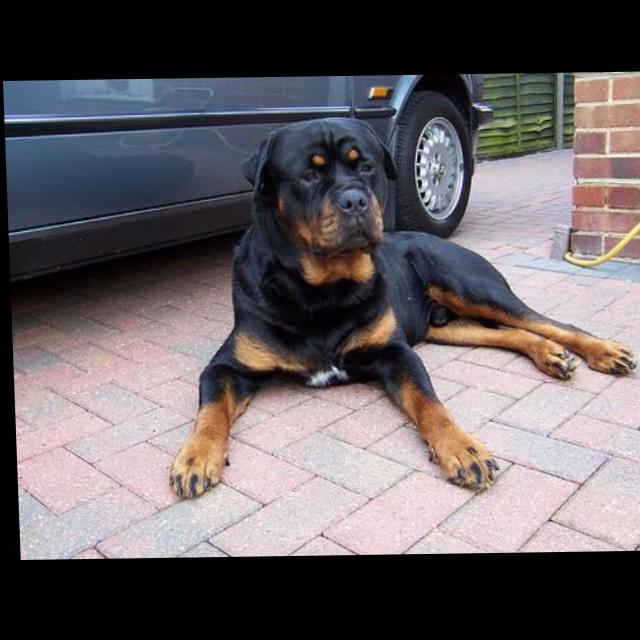rottweiler: (154, 113, 638, 500)
